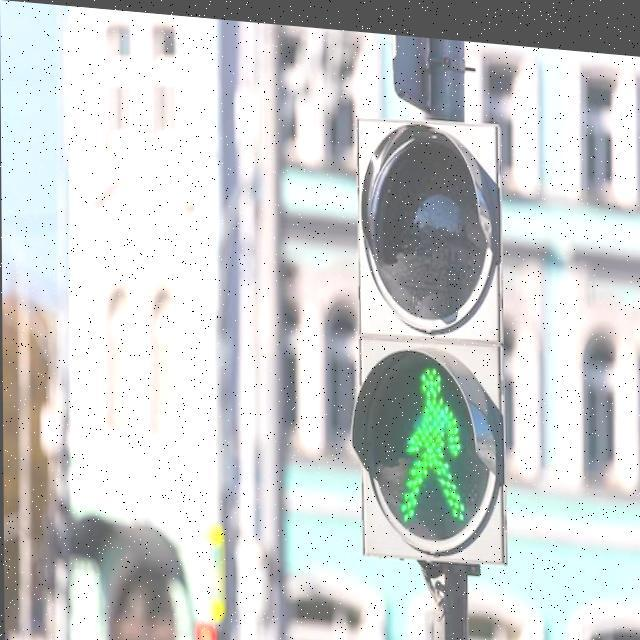green_light: (382, 354, 481, 528)
